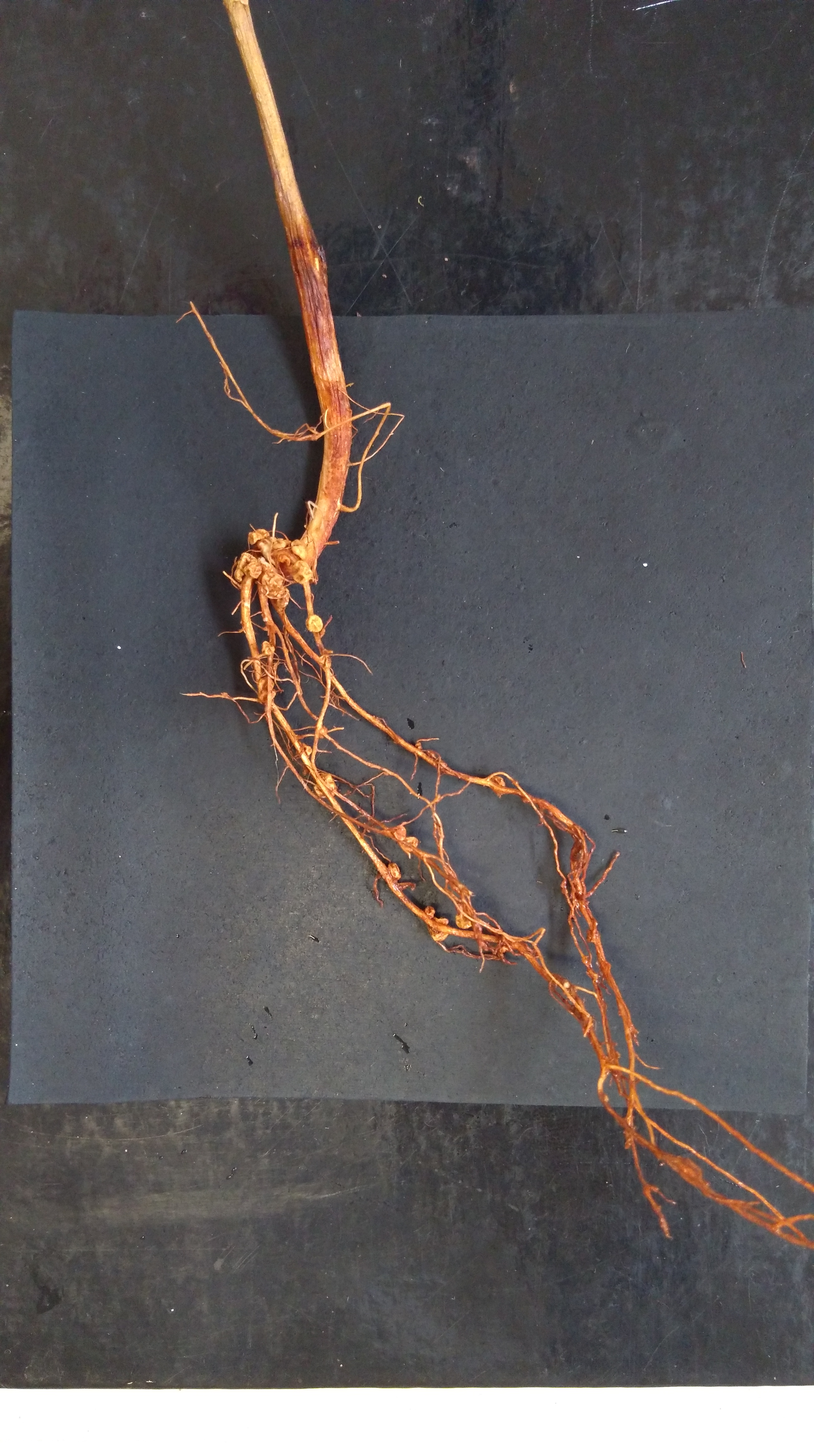nodule: (261, 569, 287, 599), (233, 551, 257, 582), (426, 916, 452, 944), (313, 770, 338, 799), (288, 559, 313, 586), (269, 585, 291, 613), (246, 527, 271, 545), (304, 614, 324, 634), (243, 559, 263, 579), (454, 912, 473, 931), (290, 538, 306, 560), (257, 676, 274, 693), (260, 639, 276, 657), (404, 835, 419, 854), (387, 862, 401, 881), (489, 774, 508, 788), (392, 825, 407, 842), (316, 724, 330, 741), (259, 690, 276, 704), (319, 654, 332, 668), (423, 905, 435, 919), (271, 538, 286, 549), (304, 743, 313, 757)
